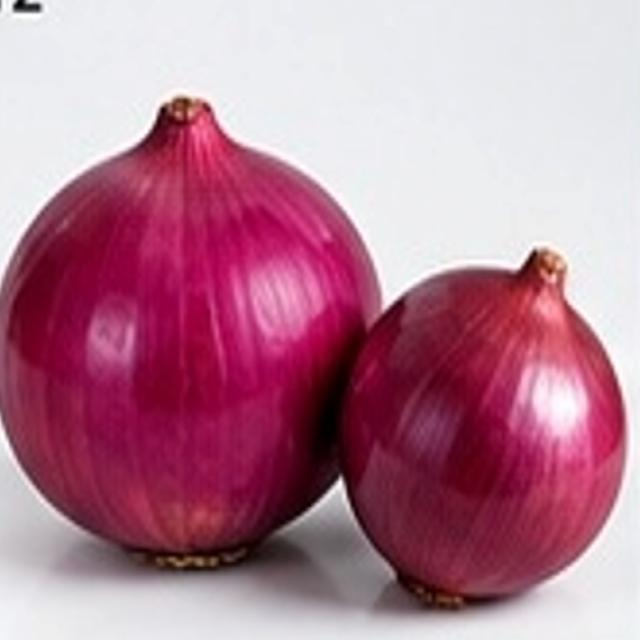healthy: (181, 214, 186, 220)
